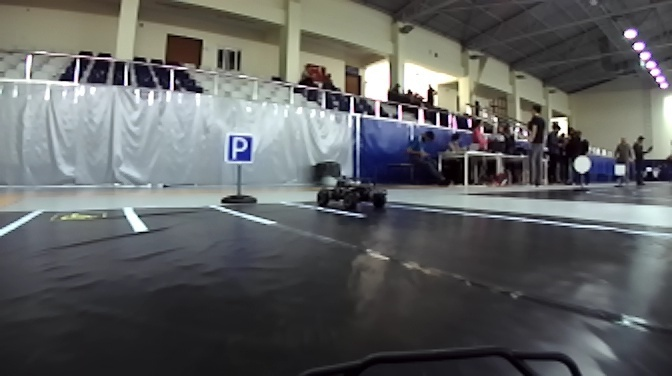park: (224, 131, 257, 166)
